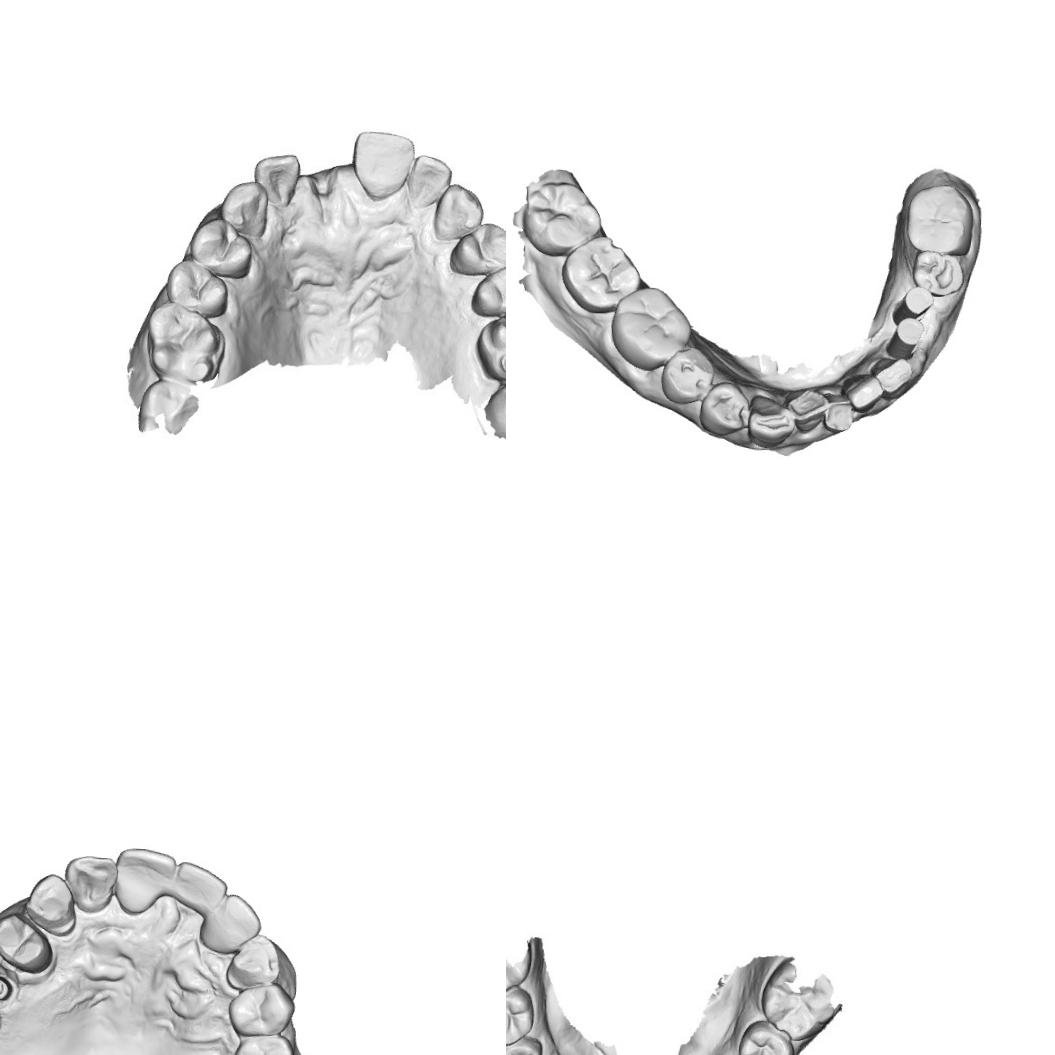abutment: (883, 312, 923, 362), (889, 284, 936, 326)
canine: (428, 179, 486, 243), (22, 872, 78, 938), (225, 931, 284, 992), (216, 177, 273, 238), (744, 391, 797, 448)
implant: (0, 972, 13, 1001)
incisor: (346, 125, 416, 201), (111, 845, 176, 916), (196, 890, 263, 956), (61, 852, 118, 916), (171, 859, 228, 919), (250, 149, 302, 208), (403, 151, 452, 207), (866, 354, 913, 400), (788, 380, 828, 433), (840, 370, 881, 417), (822, 392, 860, 439)
molar: (606, 282, 696, 374), (557, 230, 645, 315), (140, 302, 229, 386), (520, 178, 606, 260), (759, 950, 838, 1037), (902, 181, 976, 257), (474, 295, 506, 382), (481, 369, 506, 445), (506, 941, 537, 997)
premolar: (186, 216, 256, 280), (164, 256, 231, 318), (226, 979, 296, 1038), (445, 220, 506, 283), (658, 344, 715, 408), (0, 910, 56, 975), (692, 377, 750, 439), (909, 247, 969, 300), (734, 1019, 793, 1055), (470, 261, 506, 318), (506, 985, 535, 1045), (230, 1031, 295, 1055), (506, 1033, 548, 1055)
